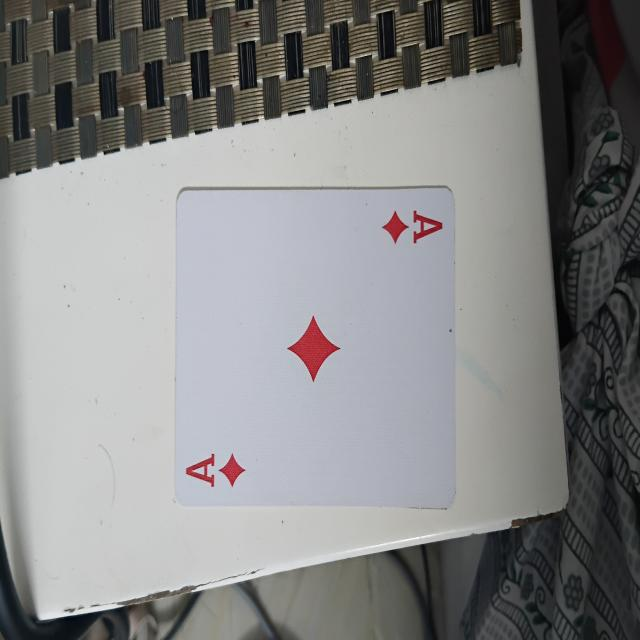AD: (171, 182, 457, 516)
